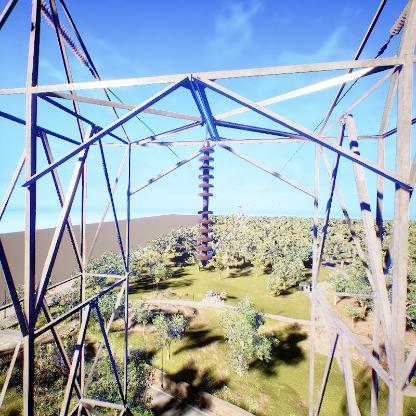insulator: (196, 145, 216, 264)
